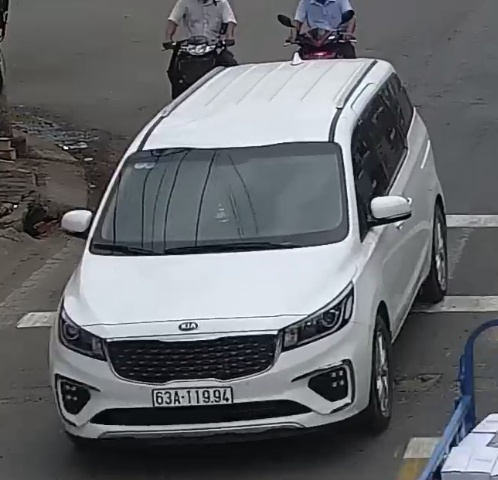vehicle plate: (148, 381, 242, 408)
